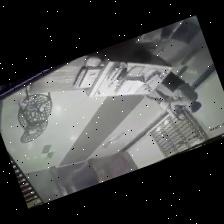person: (161, 71, 200, 112), (144, 89, 185, 120)
